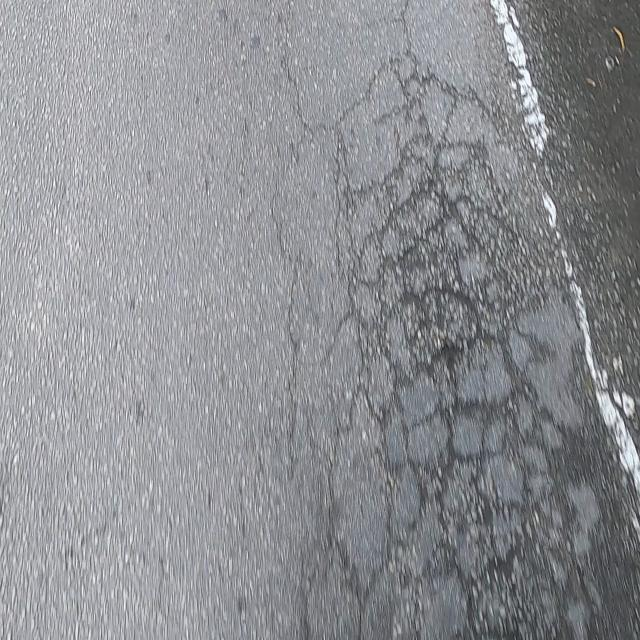Retak-Buaya: (325, 44, 596, 640)
